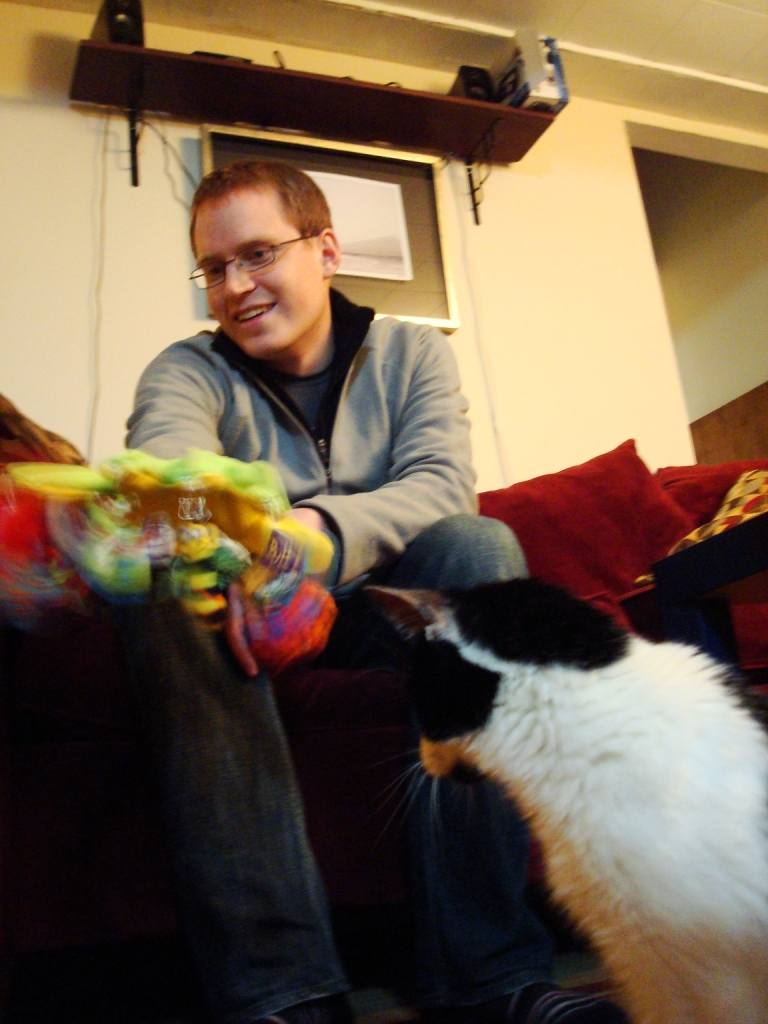cat: (366, 579, 767, 1023)
